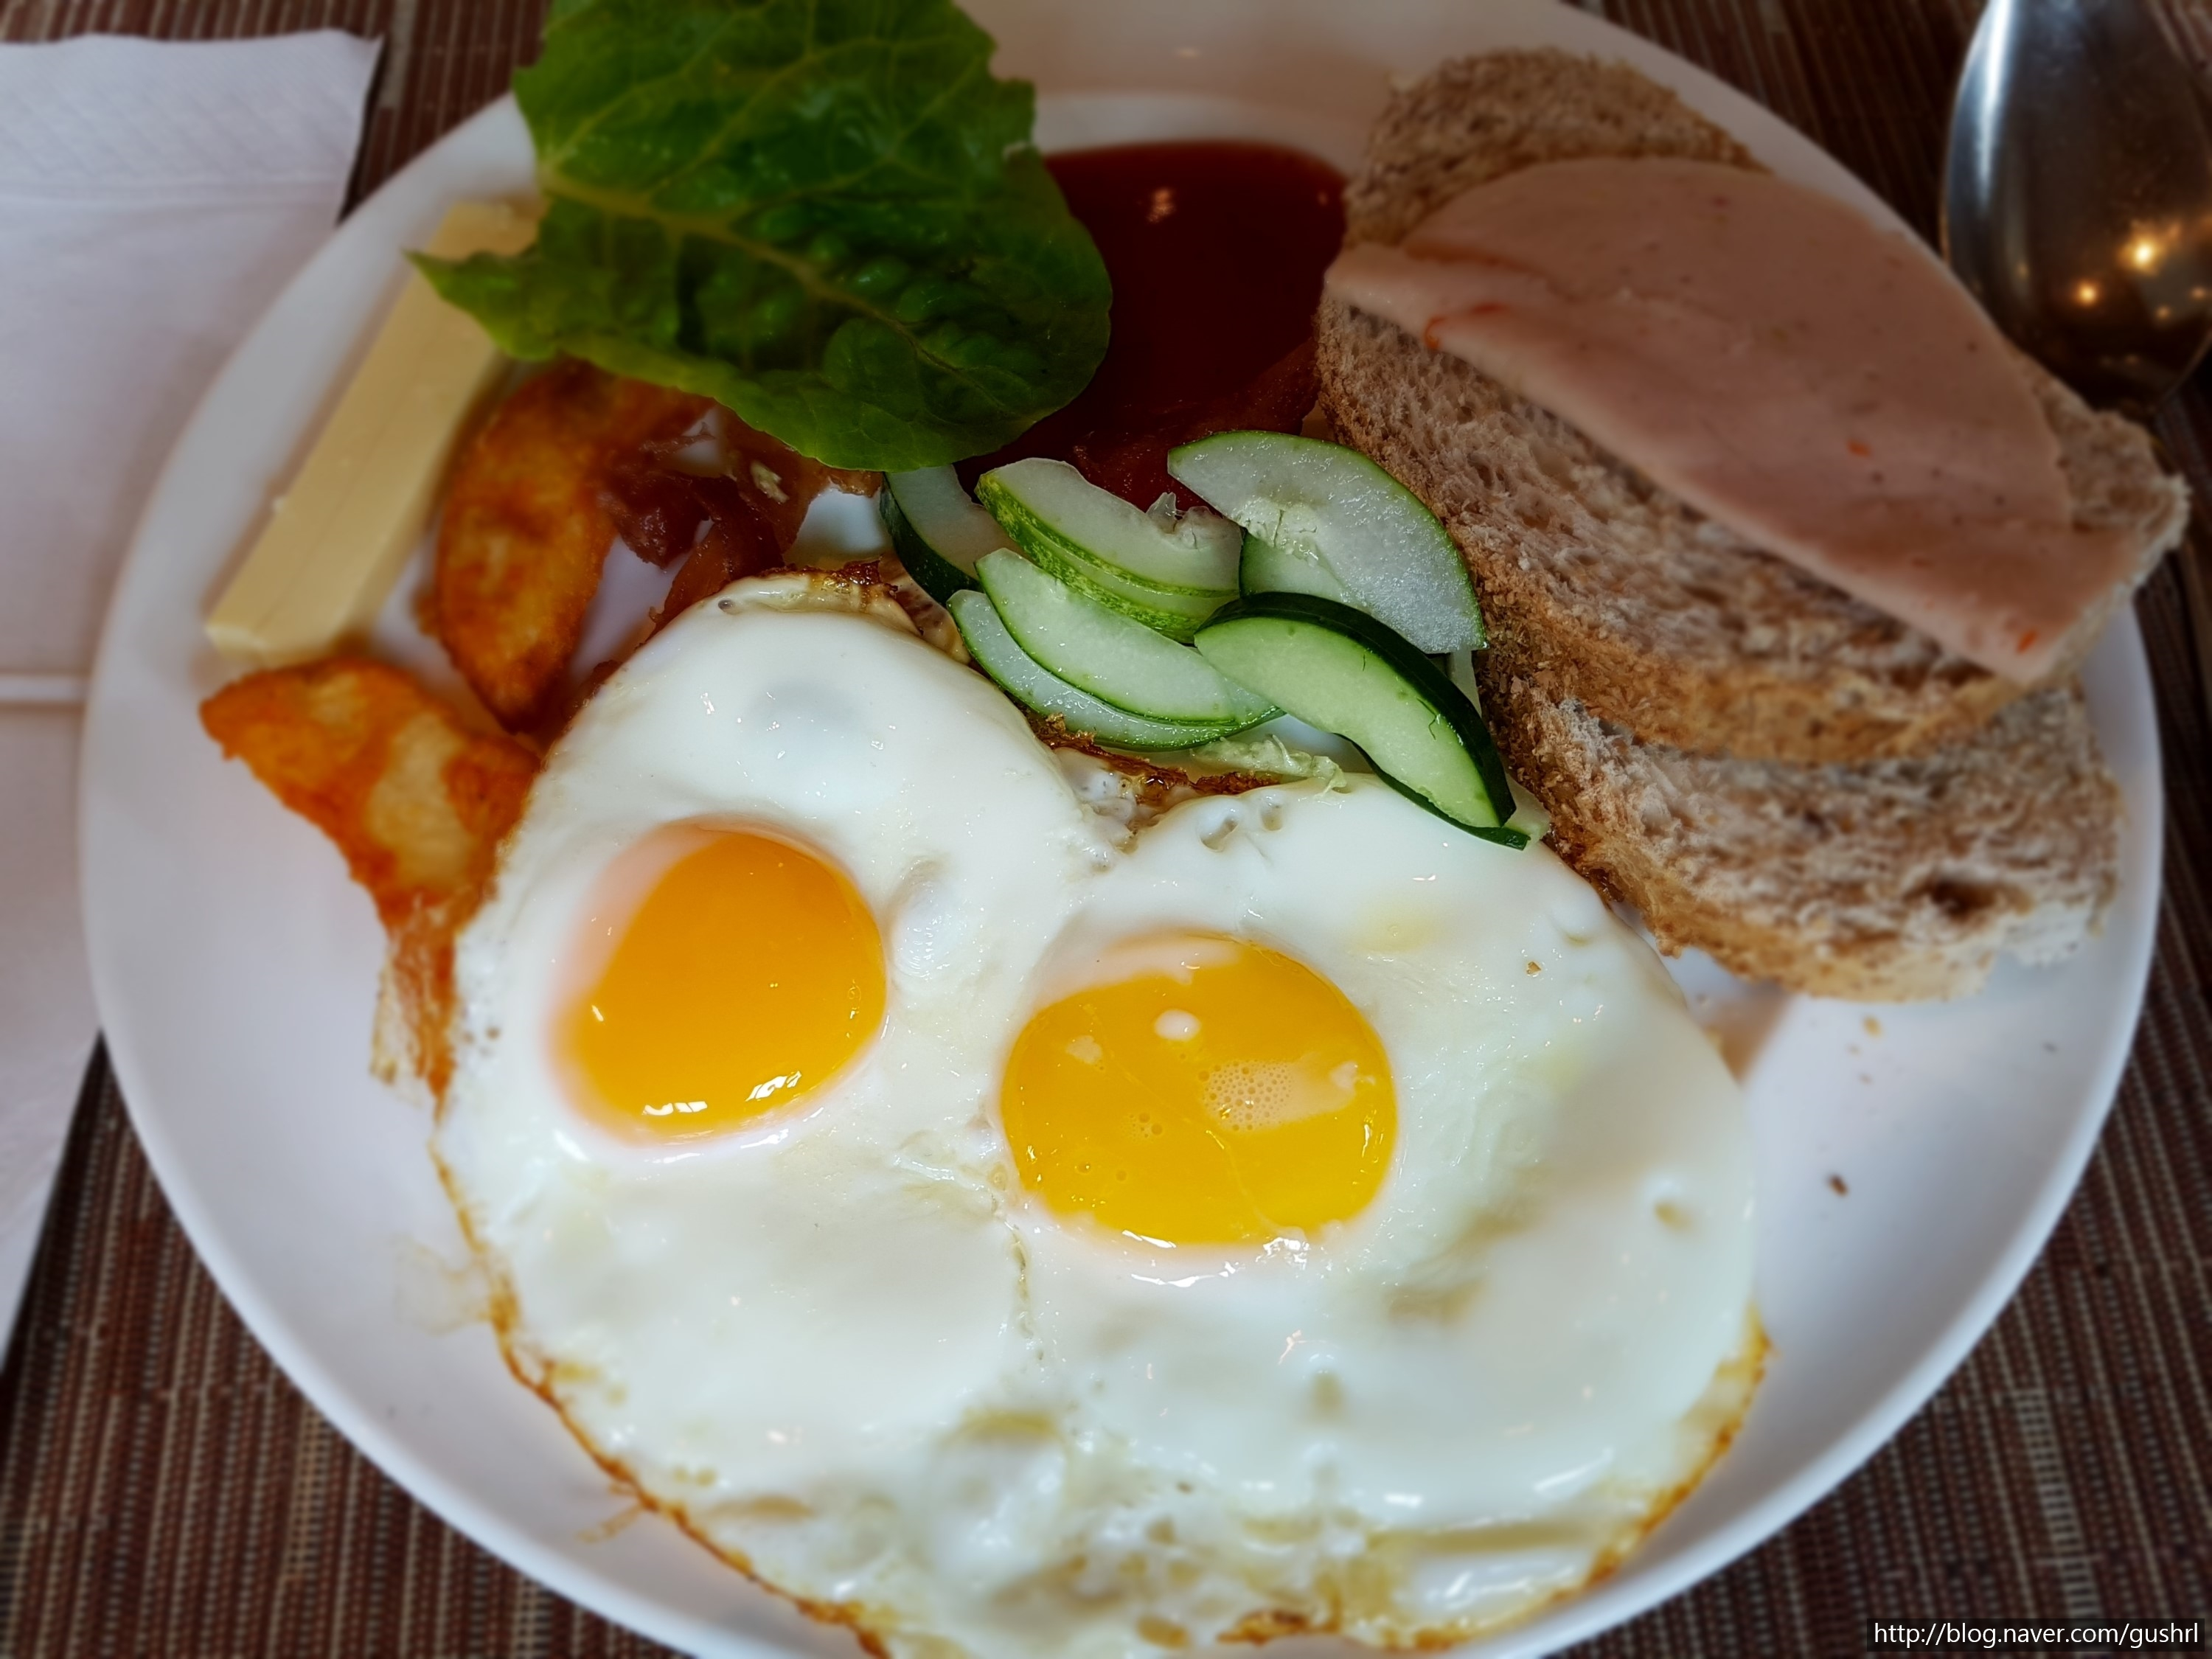chopped lettuce: (465, 0, 1144, 500)
fried egg: (458, 647, 1655, 1577)
slice of bread: (1310, 63, 2109, 976)
